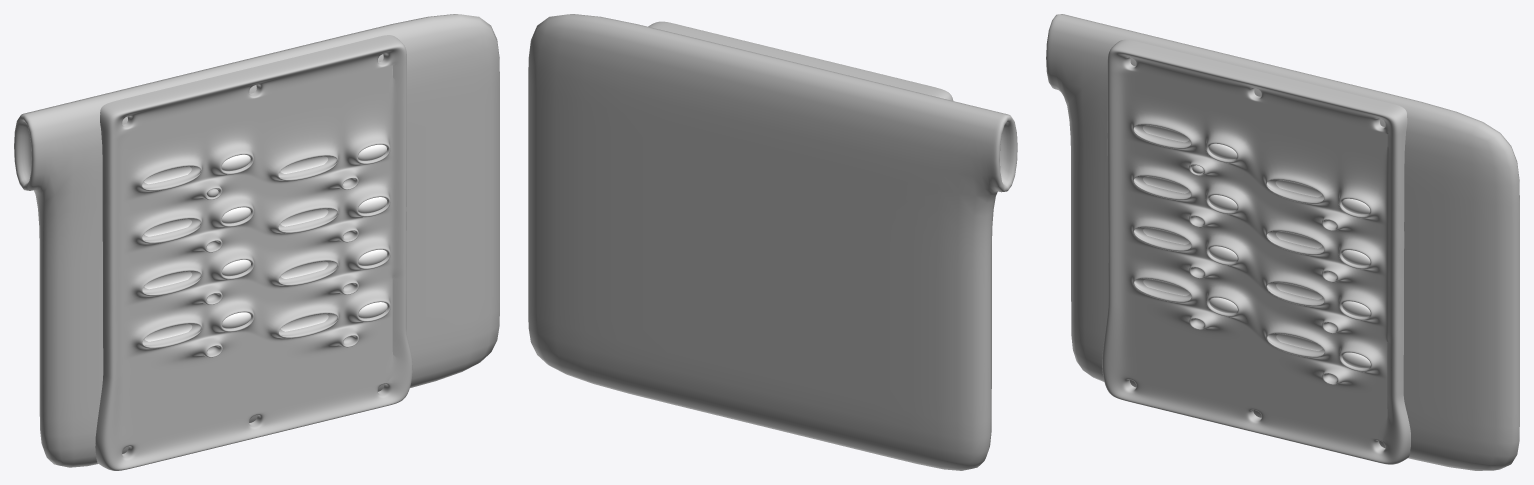
The model's file is SM_Settings_Keybind_00.fbx.
The picture shows the model from 3 angles, left to right: view 1: azimuth 30°, elevation 25°; view 2: azimuth 150°, elevation 25°; view 3: azimuth 330°, elevation 25°; orthographic projection. The views are drawn at different scales.
Parts seen in each view (by area): view 1: SM_Settings_Keybind_00, SM_Settings_Menu_Plate_00.002; view 2: SM_Settings_Menu_Plate_00.002, SM_Settings_Keybind_00; view 3: SM_Settings_Keybind_00, SM_Settings_Menu_Plate_00.002.
Boxes of the visible parts, x1,y1,x2,y2 form: SM_Settings_Keybind_00: [95, 35, 412, 470]; SM_Settings_Menu_Plate_00.002: [14, 14, 499, 467]; SM_Settings_Menu_Plate_00.002: [528, 14, 1017, 470]; SM_Settings_Keybind_00: [648, 21, 953, 100]; SM_Settings_Keybind_00: [1102, 39, 1410, 464]; SM_Settings_Menu_Plate_00.002: [1046, 14, 1519, 470].
Bounding box in the file's own units: 1129 × 827 × 145.
